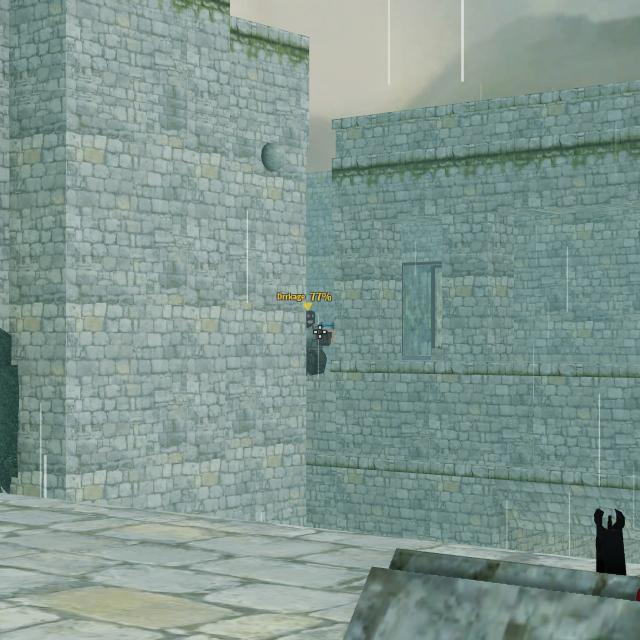Head: (306, 309, 315, 327)
Player: (306, 309, 334, 375)
